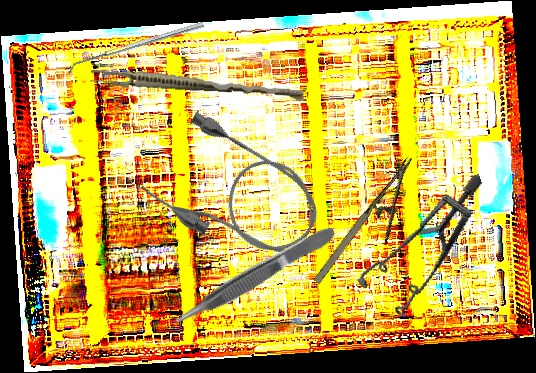Cannula: (135, 104, 335, 282)
Needle Holder: (310, 155, 437, 301)
Spatula Surgical: (65, 21, 206, 75)
Speculum: (338, 173, 514, 328)
Tissue Forceps: (166, 222, 340, 333), (89, 67, 305, 102)
